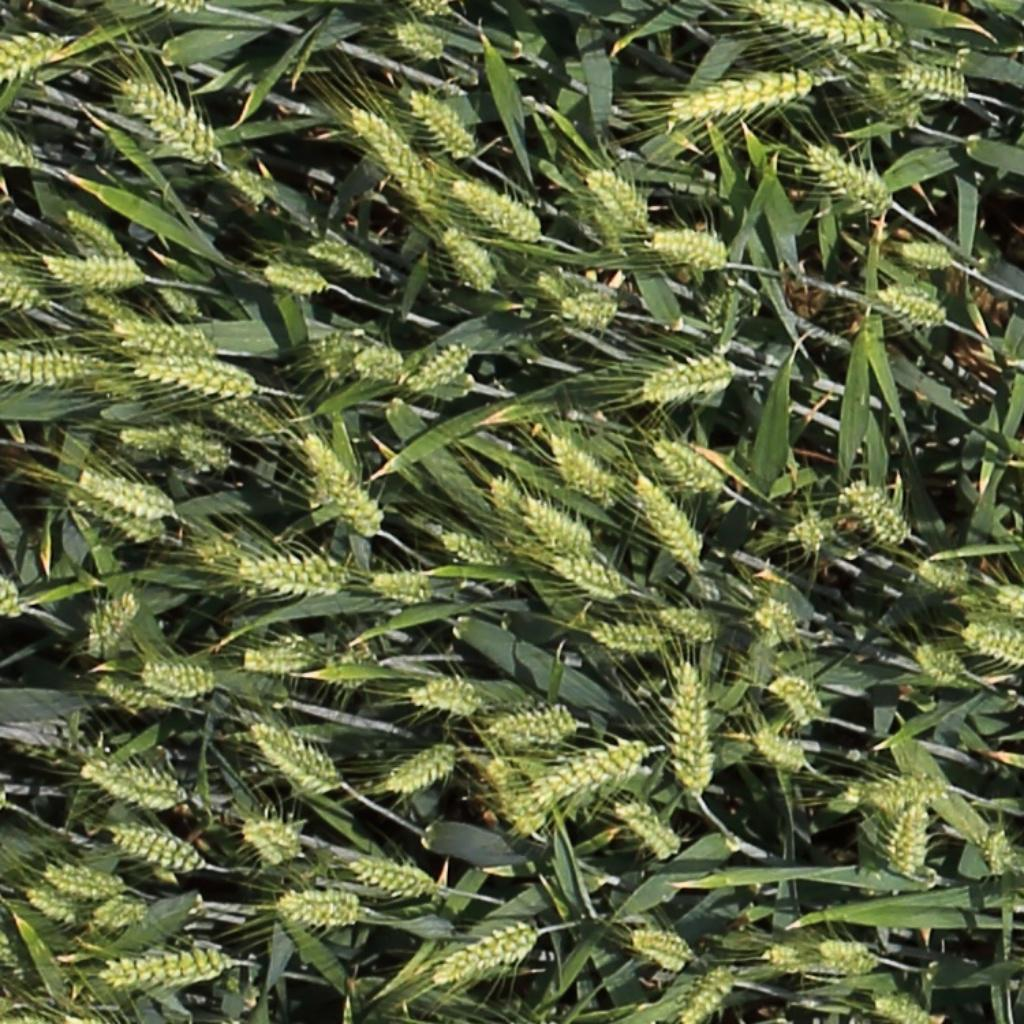0-0: (296, 428, 380, 536), (348, 103, 438, 199), (117, 79, 216, 160), (537, 738, 658, 800), (628, 472, 703, 570), (750, 1, 902, 46), (430, 922, 535, 985), (673, 659, 716, 802), (672, 74, 816, 116), (96, 944, 235, 985), (449, 177, 537, 240), (481, 756, 548, 837), (804, 143, 886, 208), (402, 84, 475, 157), (543, 431, 613, 505), (248, 724, 334, 782), (65, 488, 159, 540), (77, 765, 182, 810), (131, 359, 262, 394), (581, 163, 647, 232), (518, 496, 591, 558), (839, 484, 909, 546), (106, 828, 202, 873), (642, 357, 733, 404), (435, 222, 494, 293), (83, 587, 137, 663), (241, 553, 346, 592), (75, 473, 172, 512), (344, 861, 434, 903), (648, 438, 719, 491), (334, 327, 401, 383), (611, 805, 678, 860), (582, 178, 632, 251), (113, 320, 210, 357), (483, 471, 532, 543), (677, 965, 734, 1024), (860, 66, 920, 122), (42, 258, 149, 289), (2, 354, 109, 385), (380, 750, 454, 793), (892, 798, 928, 886), (2, 27, 66, 76), (281, 893, 376, 926), (61, 204, 121, 255), (240, 635, 327, 670), (548, 557, 626, 596), (404, 344, 469, 390), (848, 773, 951, 802), (406, 677, 483, 714), (210, 398, 281, 435), (436, 531, 510, 566), (877, 286, 946, 323), (765, 678, 823, 722), (823, 928, 878, 974), (39, 869, 122, 899), (490, 709, 578, 737), (305, 240, 375, 275), (648, 233, 727, 264), (91, 681, 167, 712), (140, 665, 220, 694), (628, 932, 694, 966), (259, 263, 333, 293), (961, 629, 1024, 663), (750, 733, 806, 771), (757, 929, 802, 976), (757, 590, 796, 643), (0, 122, 43, 170), (912, 645, 963, 685), (898, 65, 966, 94), (656, 608, 715, 641), (173, 436, 227, 471), (151, 278, 197, 318), (916, 559, 966, 595), (985, 826, 1015, 886), (223, 166, 271, 203), (240, 826, 294, 858), (24, 890, 79, 921), (80, 292, 135, 323), (0, 271, 45, 308), (872, 995, 929, 1024), (393, 25, 443, 58), (558, 297, 614, 326), (587, 629, 662, 648), (87, 903, 144, 928), (797, 505, 823, 559), (367, 574, 427, 596), (114, 428, 176, 449), (898, 241, 953, 263), (996, 588, 1024, 629), (409, 0, 451, 19)
